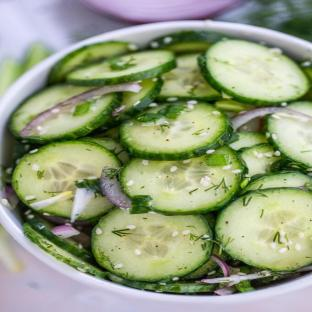Cucumber: (93, 208, 212, 281), (120, 146, 246, 214), (13, 141, 120, 217), (215, 188, 311, 270), (199, 40, 310, 105), (121, 103, 232, 160), (25, 93, 118, 143), (23, 223, 106, 278), (67, 50, 176, 86), (48, 41, 134, 84), (95, 78, 162, 132), (25, 213, 94, 262), (158, 54, 220, 101), (267, 114, 311, 167), (107, 273, 217, 293), (150, 30, 223, 53), (244, 172, 311, 192), (80, 137, 129, 164), (240, 144, 280, 176), (23, 43, 51, 72), (0, 60, 22, 96), (183, 260, 218, 279), (215, 99, 254, 115), (228, 133, 267, 149), (93, 127, 119, 140), (301, 61, 311, 80)
